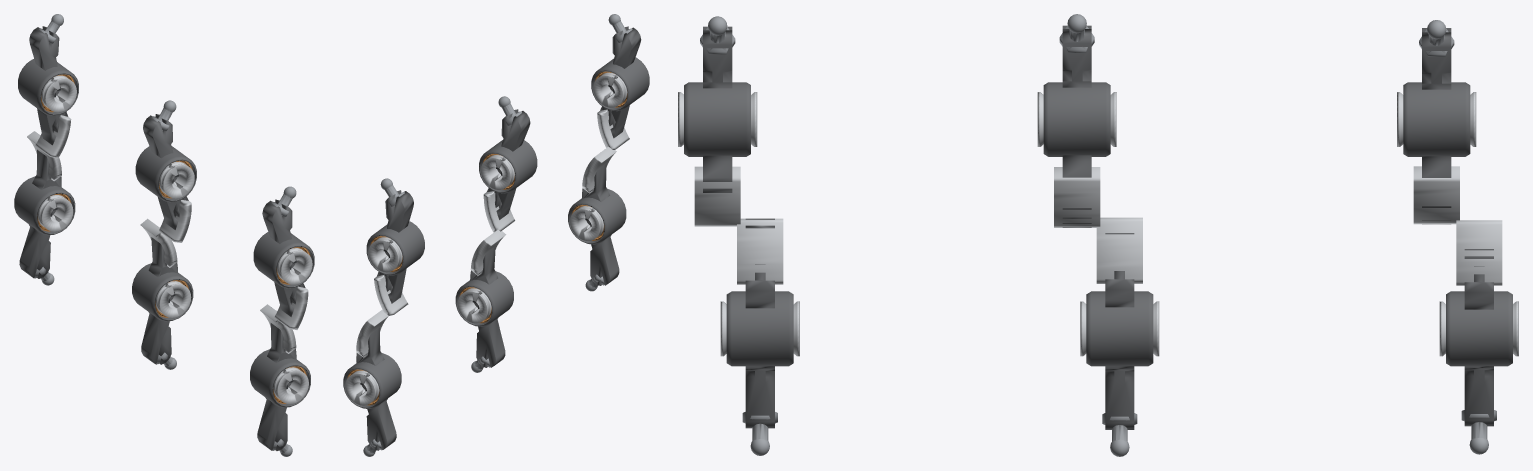
The model's file is rockers-left.glb.
3 renders of one model, left to right at view 1: azimuth 30°, elevation 25°; view 2: azimuth 150°, elevation 25°; view 3: azimuth 270°, elevation 25°, orthographic. The views are drawn at different scales.
Parts seen in each view (by area): view 1: rockers-left:forgedSteel, rockers-left:polishedSteel, rockers-left:steel, rockers-left:bronze; view 2: rockers-left:forgedSteel, rockers-left:polishedSteel, rockers-left:steel, rockers-left:bronze; view 3: rockers-left:forgedSteel, rockers-left:polishedSteel, rockers-left:steel.
Part boxes in pixels (bbox=[...]): rockers-left:forgedSteel: bbox=[14, 26, 314, 450]; rockers-left:polishedSteel: bbox=[27, 75, 312, 403]; rockers-left:steel: bbox=[34, 14, 296, 456]; rockers-left:bronze: bbox=[37, 74, 310, 403]; rockers-left:forgedSteel: bbox=[343, 26, 649, 450]; rockers-left:polishedSteel: bbox=[345, 72, 629, 405]; rockers-left:steel: bbox=[363, 14, 632, 456]; rockers-left:bronze: bbox=[347, 71, 627, 405]; rockers-left:forgedSteel: bbox=[684, 25, 1512, 429]; rockers-left:polishedSteel: bbox=[678, 92, 1518, 356]; rockers-left:steel: bbox=[700, 14, 1496, 456].
Bounding box in the file's own units: 30.55 × 156 × 276.
